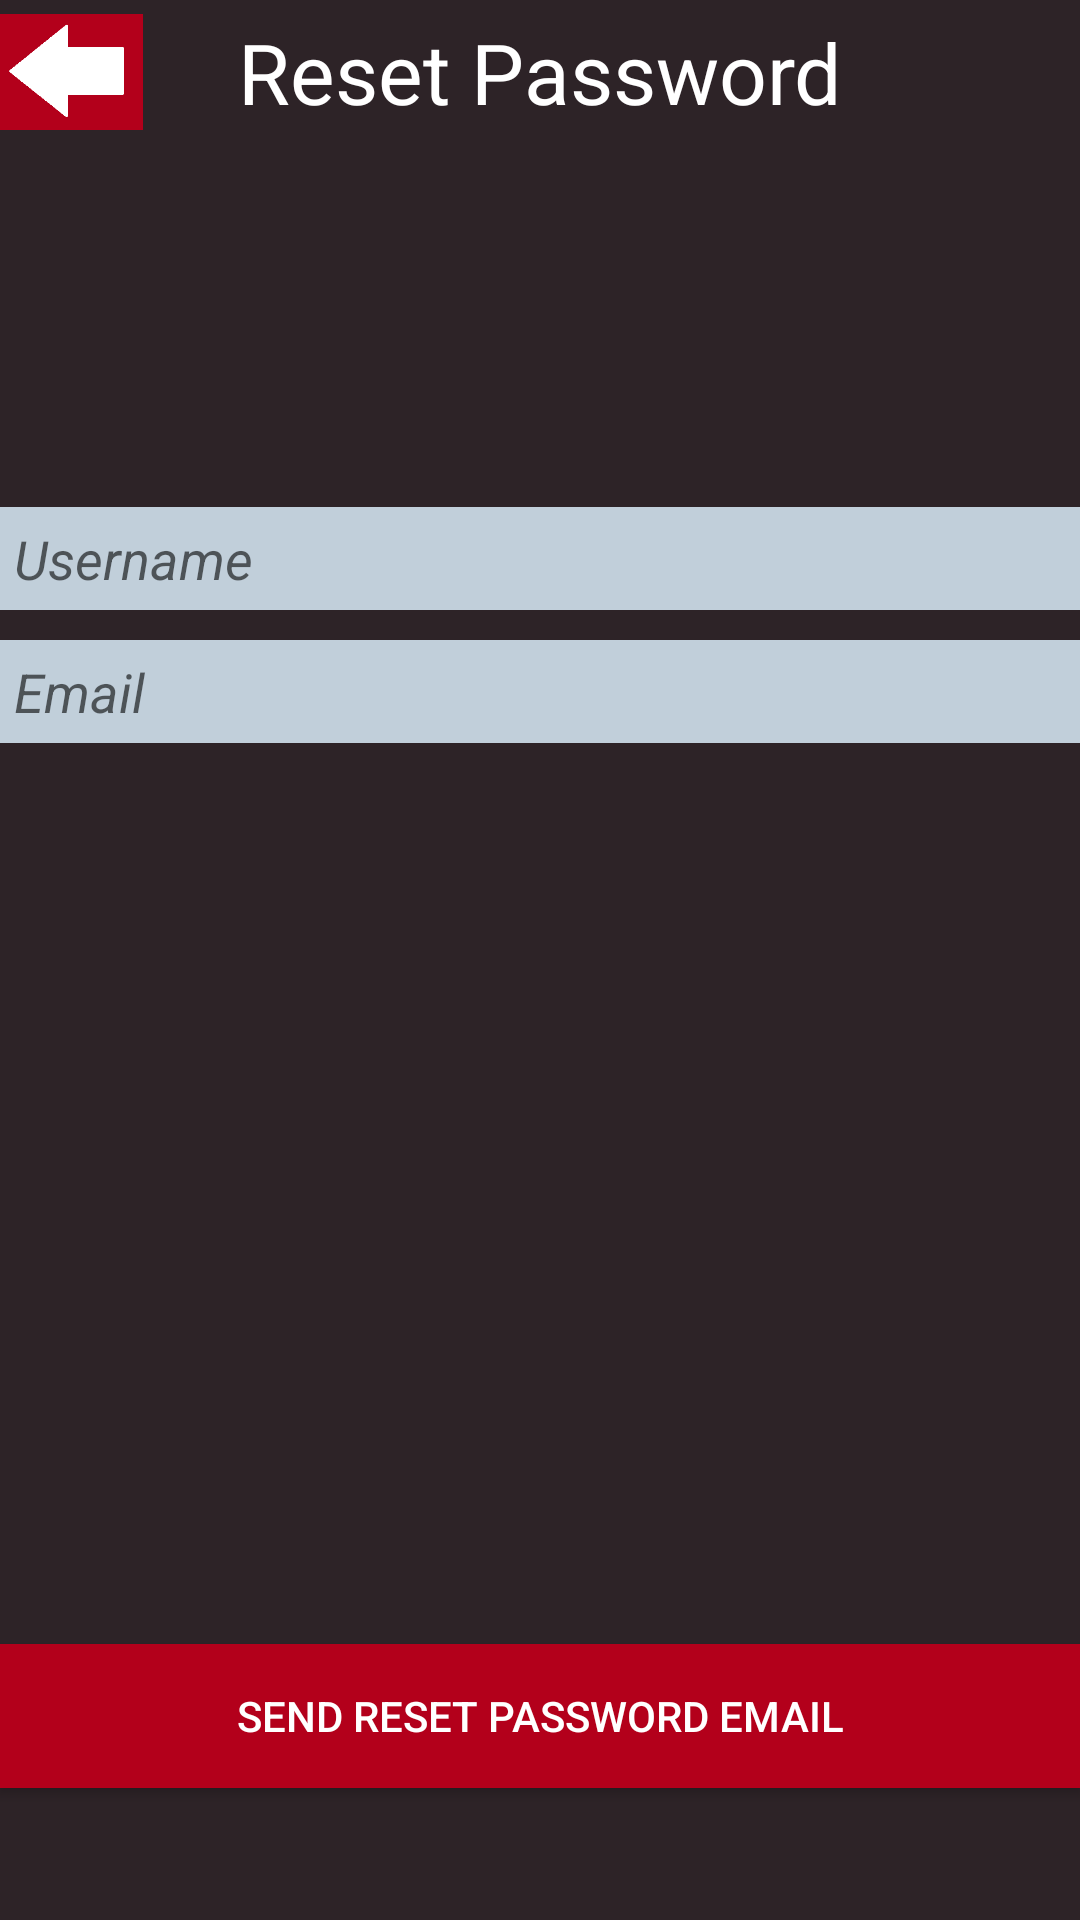

Locate icon controls on the screen. Image size 1080px x 1920px, boxes as (x1, y1, x2, y2).
back: (0, 14, 143, 130)
